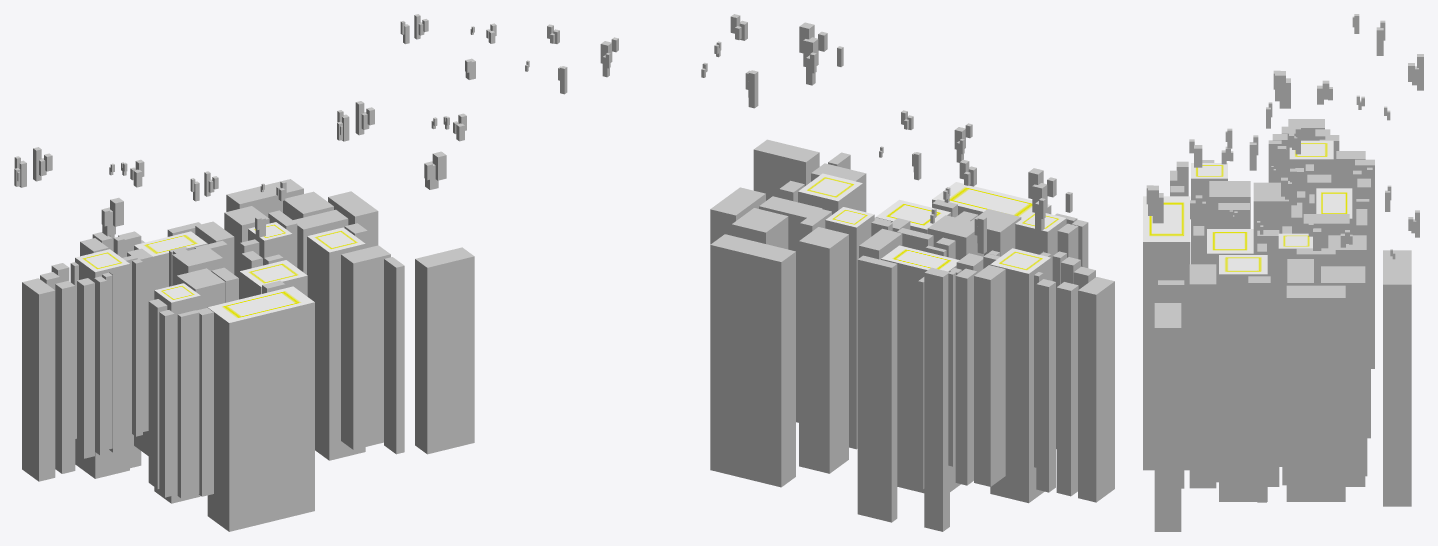
The model's file is world_A.fbx.
The picture shows the model from 3 angles, left to right: view 1: azimuth 30°, elevation 25°; view 2: azimuth 150°, elevation 25°; view 3: azimuth 270°, elevation 25°; orthographic projection. The views are drawn at different scales.
Parts seen in each view (by area): view 1: Cube_4, Cube_46, Cube_44, Cube_7, Platform, Cube_1, Cube_23, Cube_45, Cube_5_2, Cube_7_2, Cube_22, Cube_24 (+19 smaller); view 2: Cube_41, Cube_37, Cube_33, Cube_1, Platform, Cube_12, Cube_19, Cube_3, Cube_6_2, Cube_8, Cube_16, Cube_6 (+14 smaller); view 3: Cube_42, Cube_7, Cube_41, Cube_4, Cube_46, Cube_44, Cube_40, Cube_43, Cube_6, Cube_34, Cube_5, Cube_28 (+25 smaller).
Part boxes in pixels (x1=…): Cube_4: x1=207, y1=286, x2=314, y2=531; Cube_46: x1=415, y1=247, x2=474, y2=454; Cube_44: x1=341, y1=245, x2=390, y2=449; Cube_7: x1=109, y1=227, x2=365, y2=460; Platform: x1=22, y1=278, x2=55, y2=481; Cube_1: x1=75, y1=249, x2=129, y2=478; Cube_23: x1=177, y1=310, x2=199, y2=498; Cube_45: x1=384, y1=257, x2=404, y2=454; Cube_5_2: x1=55, y1=280, x2=75, y2=473; Cube_7_2: x1=77, y1=278, x2=94, y2=458; Cube_22: x1=159, y1=310, x2=174, y2=497; Cube_24: x1=196, y1=308, x2=213, y2=496; Cube_41: x1=710, y1=234, x2=795, y2=487; Cube_37: x1=799, y1=227, x2=848, y2=473; Cube_33: x1=857, y1=255, x2=897, y2=522; Cube_1: x1=990, y1=248, x2=1050, y2=503; Platform: x1=1078, y1=277, x2=1114, y2=502; Cube_12: x1=974, y1=265, x2=1005, y2=486; Cube_19: x1=924, y1=267, x2=949, y2=531; Cube_3: x1=881, y1=245, x2=960, y2=491; Cube_6_2: x1=1056, y1=282, x2=1078, y2=496; Cube_8: x1=1036, y1=279, x2=1055, y2=492; Cube_16: x1=955, y1=268, x2=977, y2=485; Cube_6: x1=825, y1=207, x2=874, y2=449; Cube_42: x1=1286, y1=285, x2=1345, y2=501; Cube_7: x1=1219, y1=149, x2=1285, y2=501; Cube_41: x1=1383, y1=250, x2=1411, y2=506; Cube_4: x1=1143, y1=196, x2=1190, y2=470; Cube_46: x1=1154, y1=303, x2=1181, y2=531; Cube_44: x1=1189, y1=264, x2=1216, y2=488; Cube_40: x1=1321, y1=266, x2=1365, y2=486; Cube_43: x1=1248, y1=276, x2=1270, y2=486; Cube_6: x1=1278, y1=233, x2=1312, y2=466; Cube_34: x1=1257, y1=230, x2=1279, y2=486; Cube_5: x1=1207, y1=229, x2=1253, y2=482; Cube_28: x1=1253, y1=182, x2=1288, y2=254.
Bounding box in the file's own units: 9842 × 7335 × 4528.
2 materials, 1 textured.
